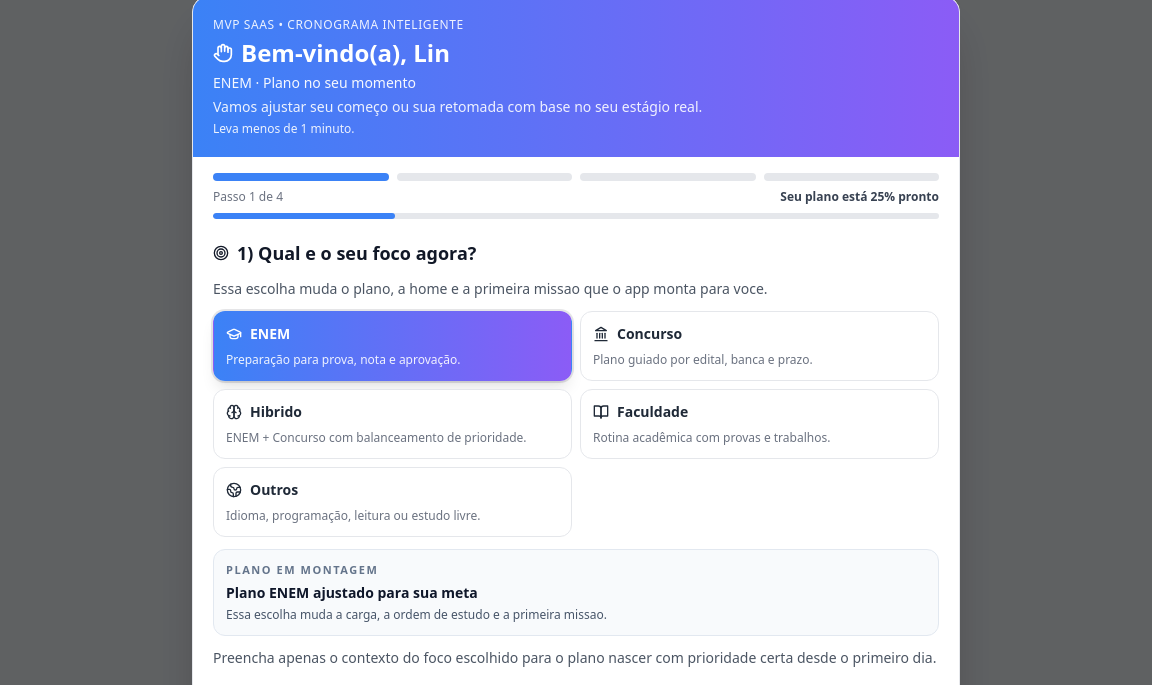
Test case: OnboardingFlow › mostra o contexto completo de concurso com area, busca, banca e experiencia
This screenshot has width=1152, height=685.
Click the button "Concurso Plano guiado por edital, banca e prazo.": {"x": 650, "y": 334} x1=580 y1=311 x2=939 y2=381
(page scrolled)
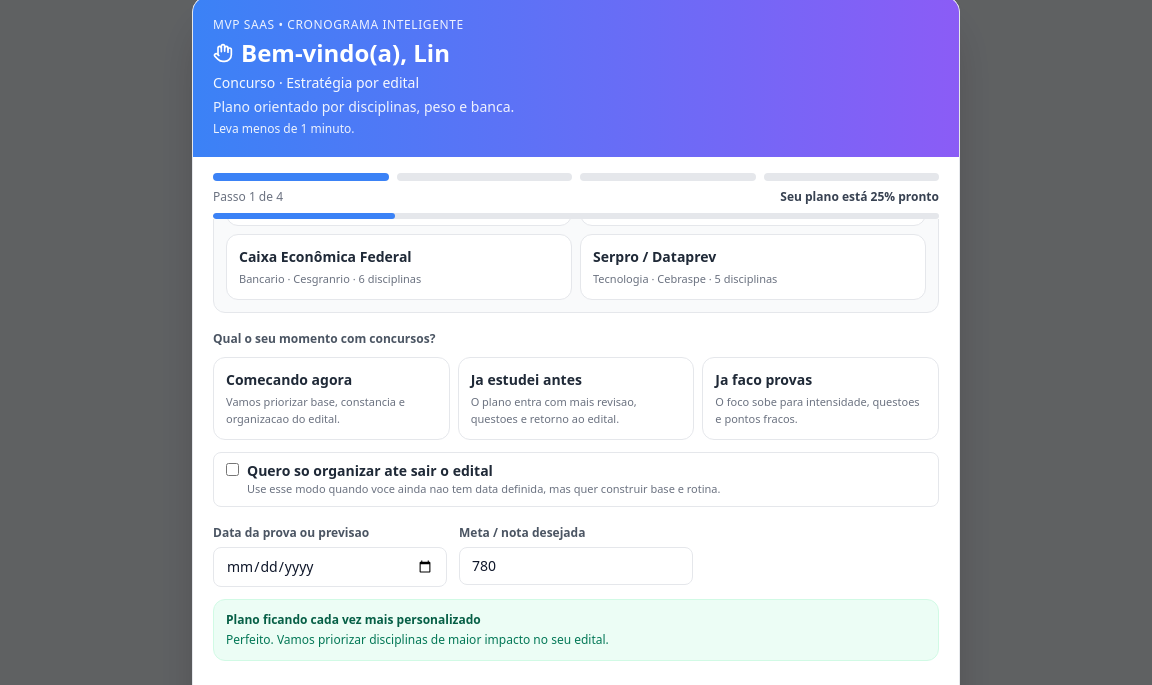
Expected: the text "Qual o seu momento com concursos?" is shown, x1=213 y1=330 x2=435 y2=347
Expected: the text "Quero so organizar ate sair o edital" is shown, x1=247 y1=461 x2=493 y2=480
